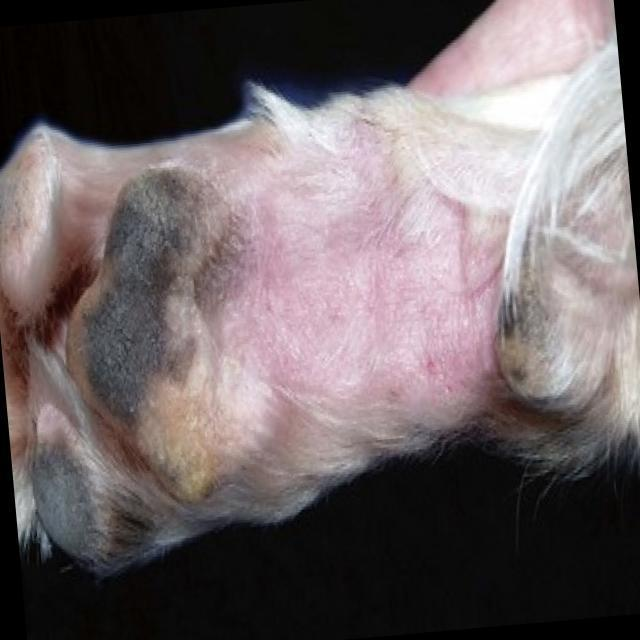allergic dermatitis: (209, 162, 494, 426)
